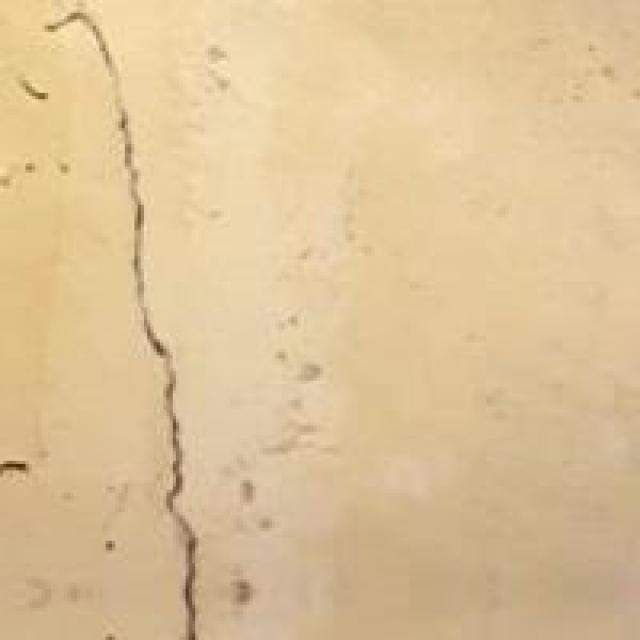crack: (9, 9, 310, 636)
